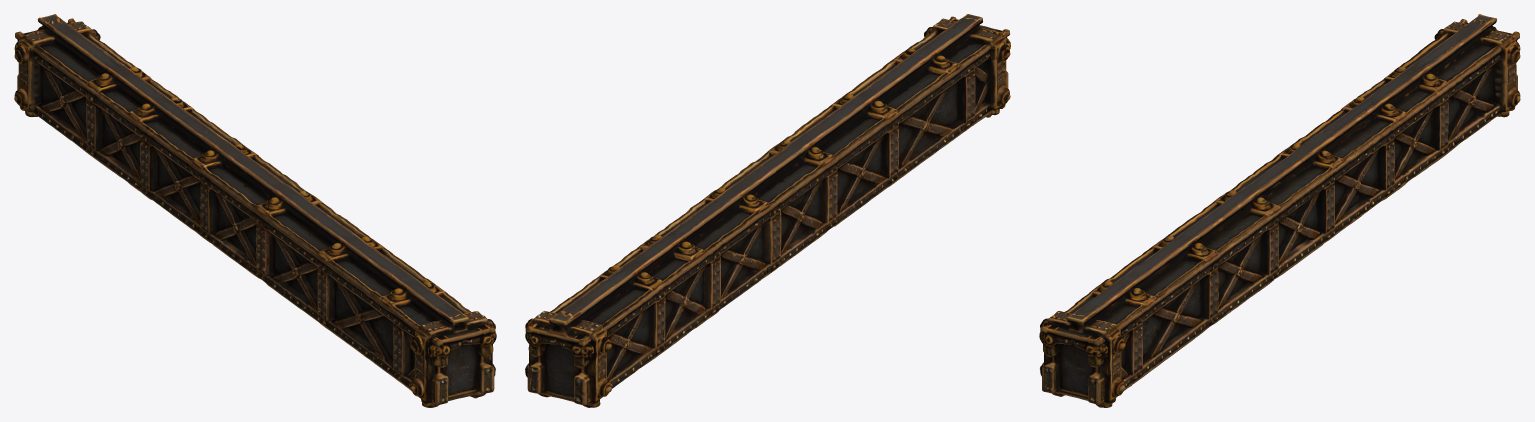
File: raw_girder.glb
3 renders of one model, left to right at view 1: azimuth 30°, elevation 25°; view 2: azimuth 150°, elevation 25°; view 3: azimuth 330°, elevation 25°, orthographic.
Visible parts, largest first — view 1: girder; view 2: girder; view 3: girder.
Boxes of the visible parts, left/top/right/bottom form: girder: left=14, top=14, right=496, bottom=407; girder: left=525, top=14, right=1010, bottom=407; girder: left=1039, top=14, right=1520, bottom=407.
Bounding box in the file's own units: 0.1157 × 0.1197 × 1.
1 material, 1 textured.
